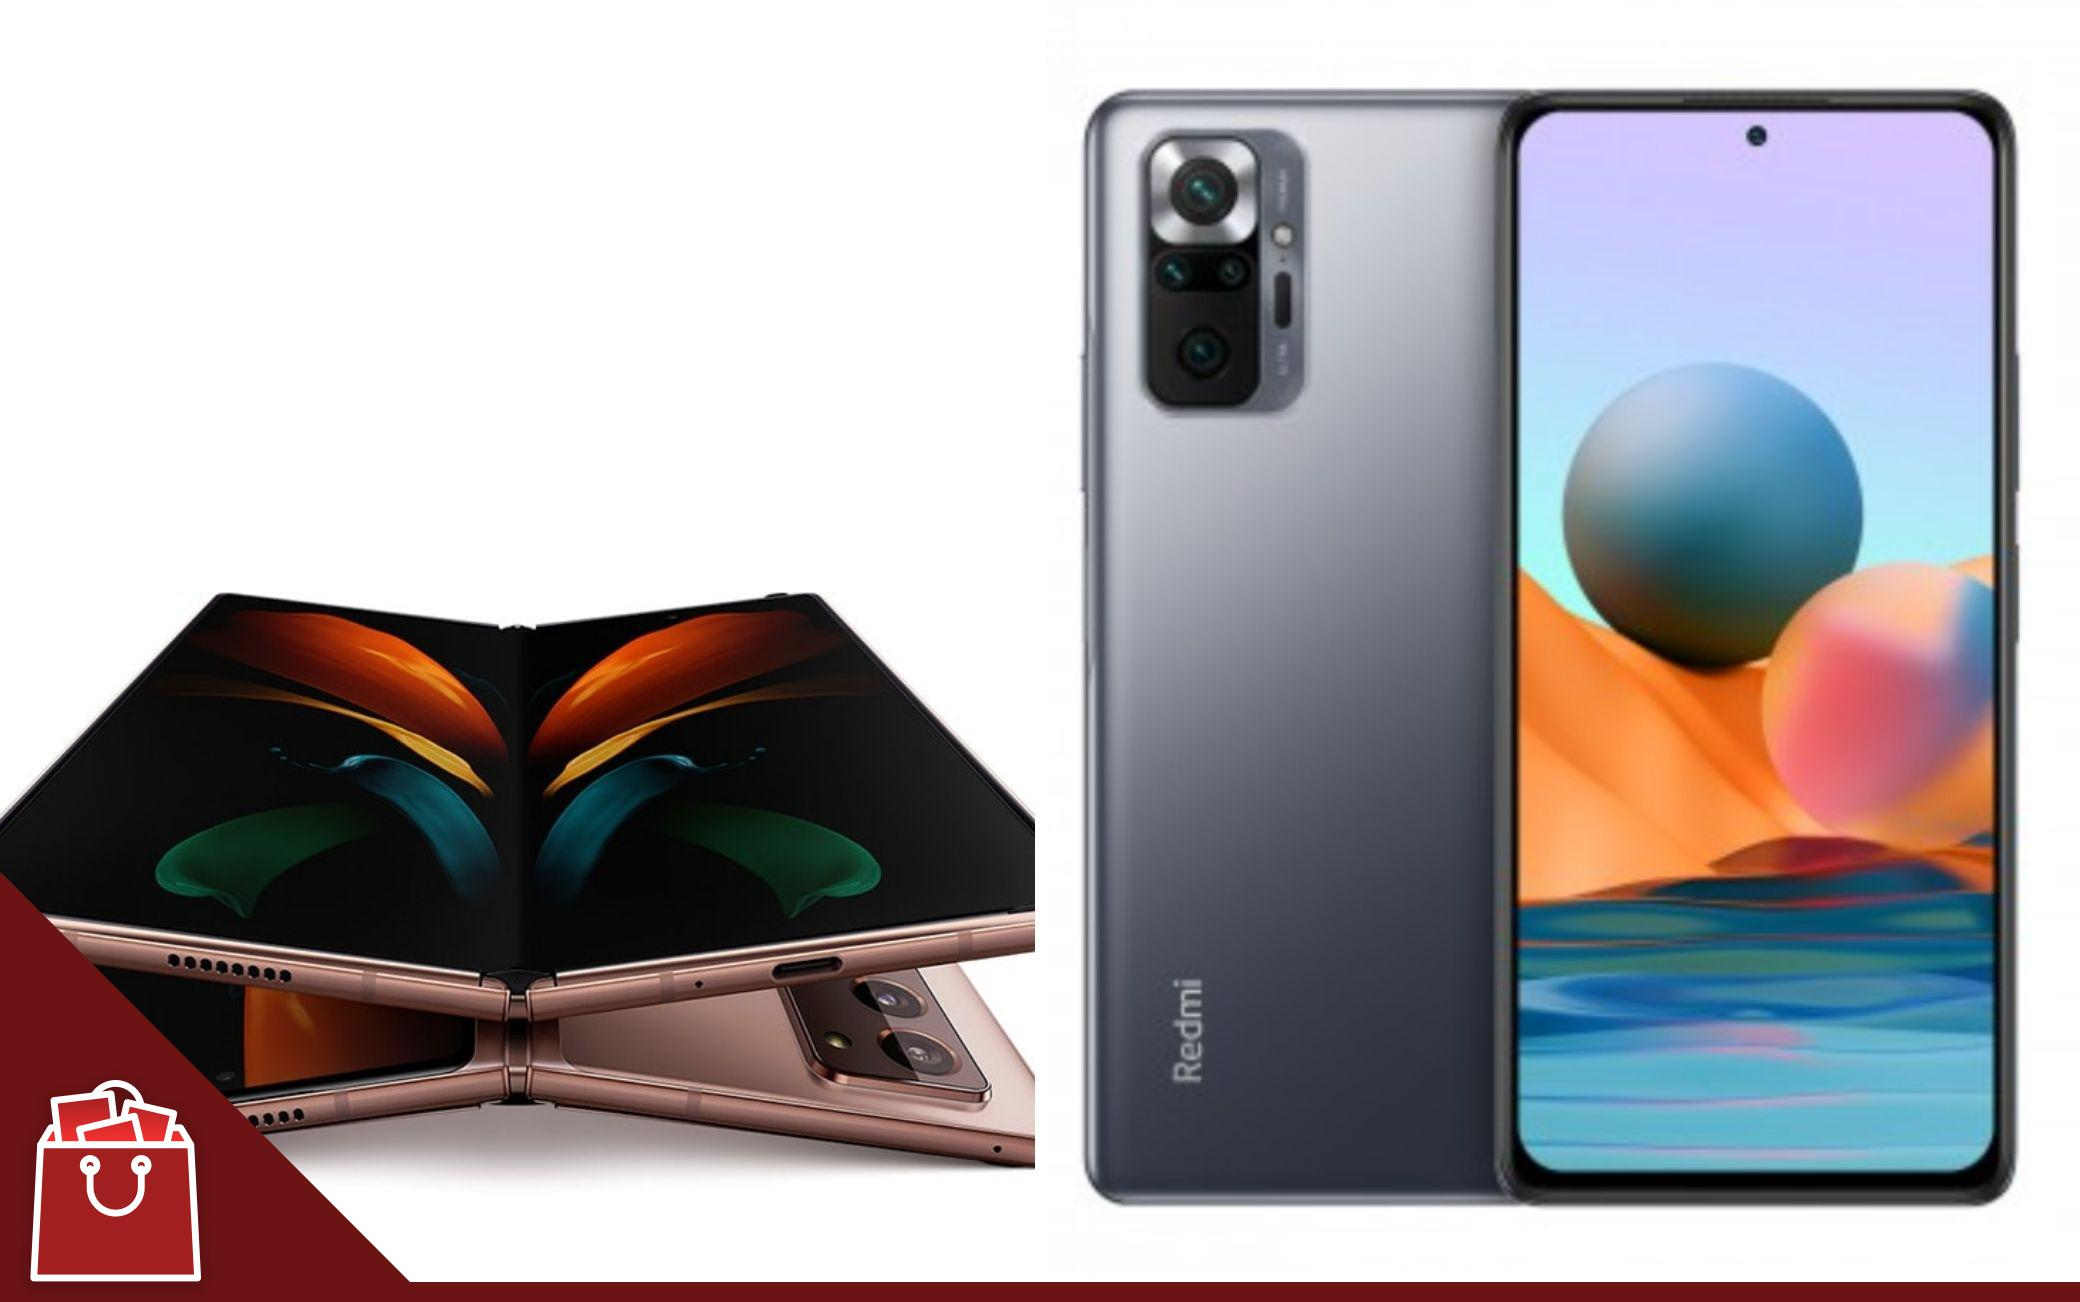Smartphone: (1452, 85, 2008, 1216), (27, 534, 1054, 1038), (1071, 54, 1482, 1248), (75, 913, 1021, 1171)
